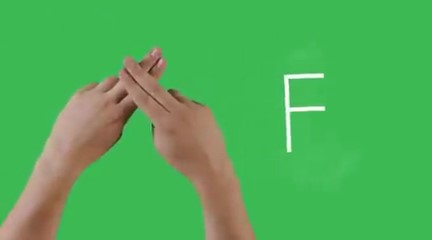F: (44, 36, 234, 182)
